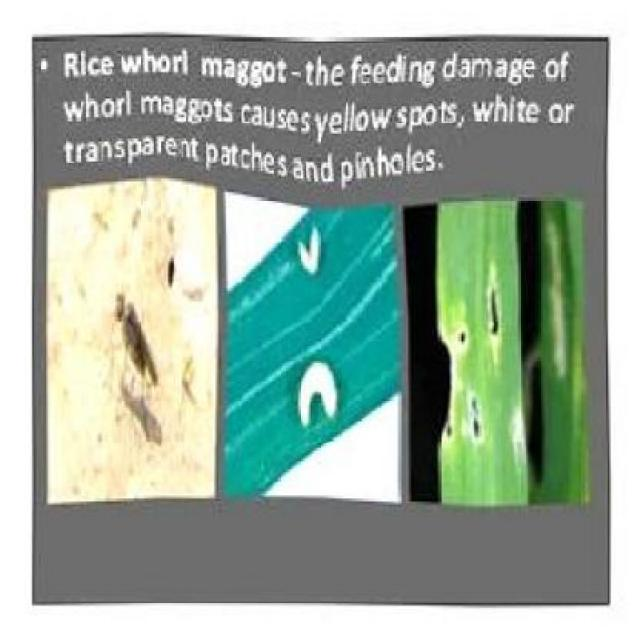whorl-maggot: (291, 362, 349, 436), (289, 228, 331, 282)
